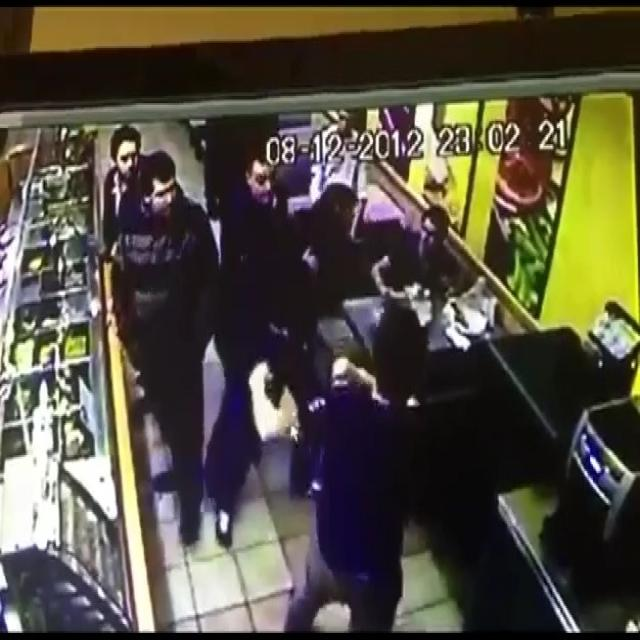fight: (239, 296, 427, 636)
